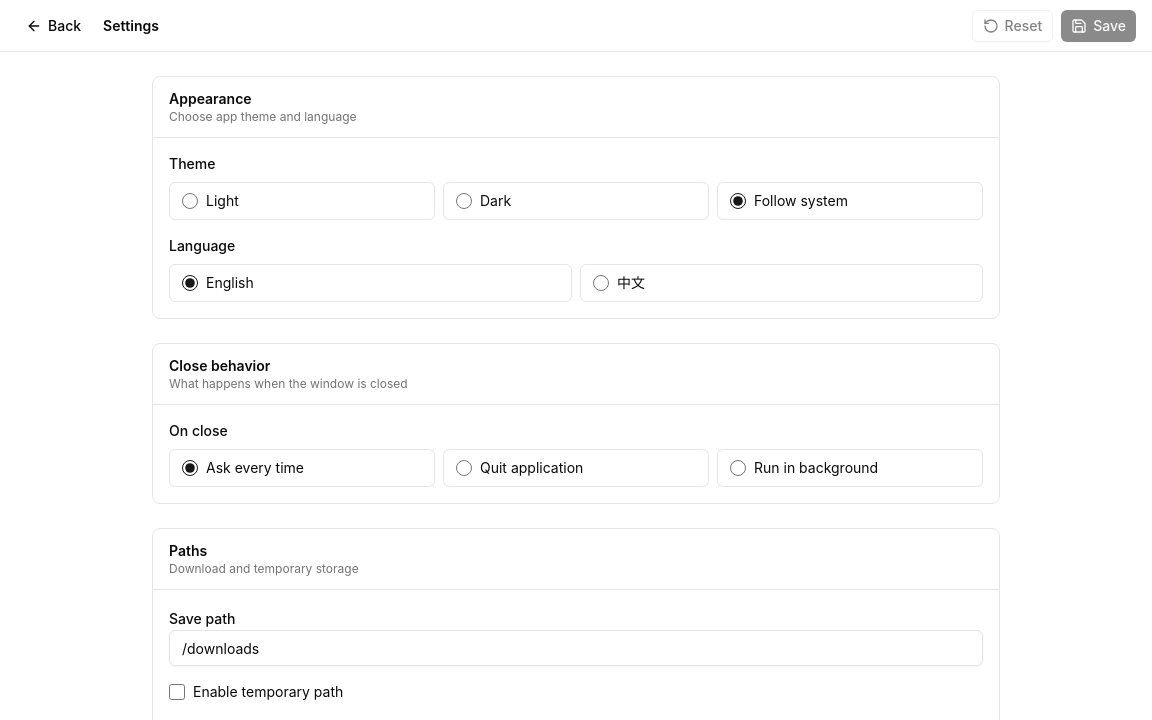
Scenario: Settings page › can reopen exit prompt after closing it
The image size is (1152, 720).
Expected: the field labelled "Save path" holds "/downloads", [169,630,983,666]
Click the radio button labelled "Dark".
click(464, 201)  # box [456,193,472,209]
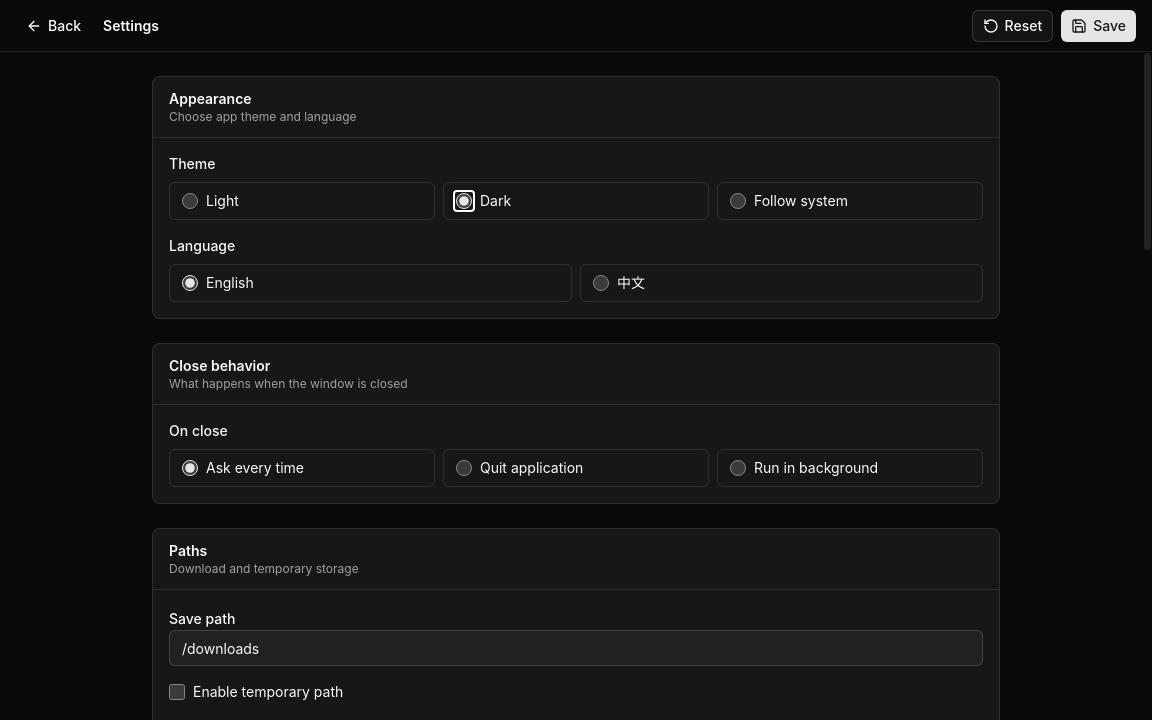
Click the button "Back".
click(54, 26)  # box [16,10,91,42]
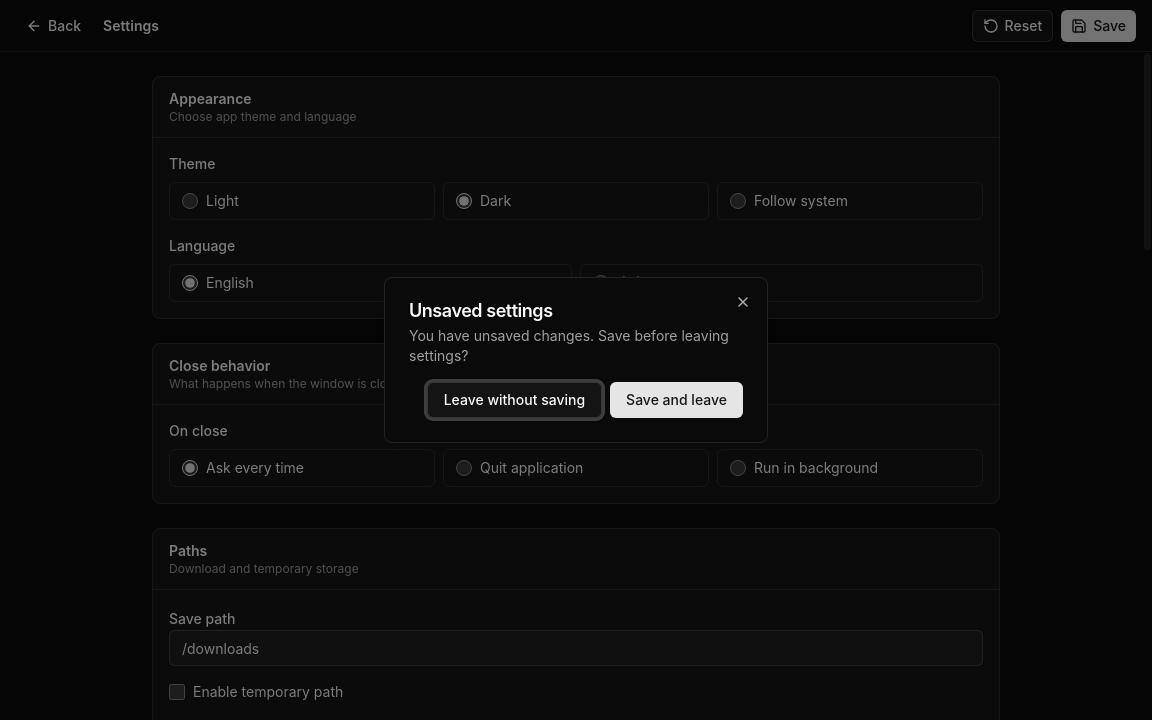
Expected: the heading "Unsaved settings" is shown, [409,300,553,321]
Click the button named "Close".
click(743, 302)  # box [735,294,751,310]
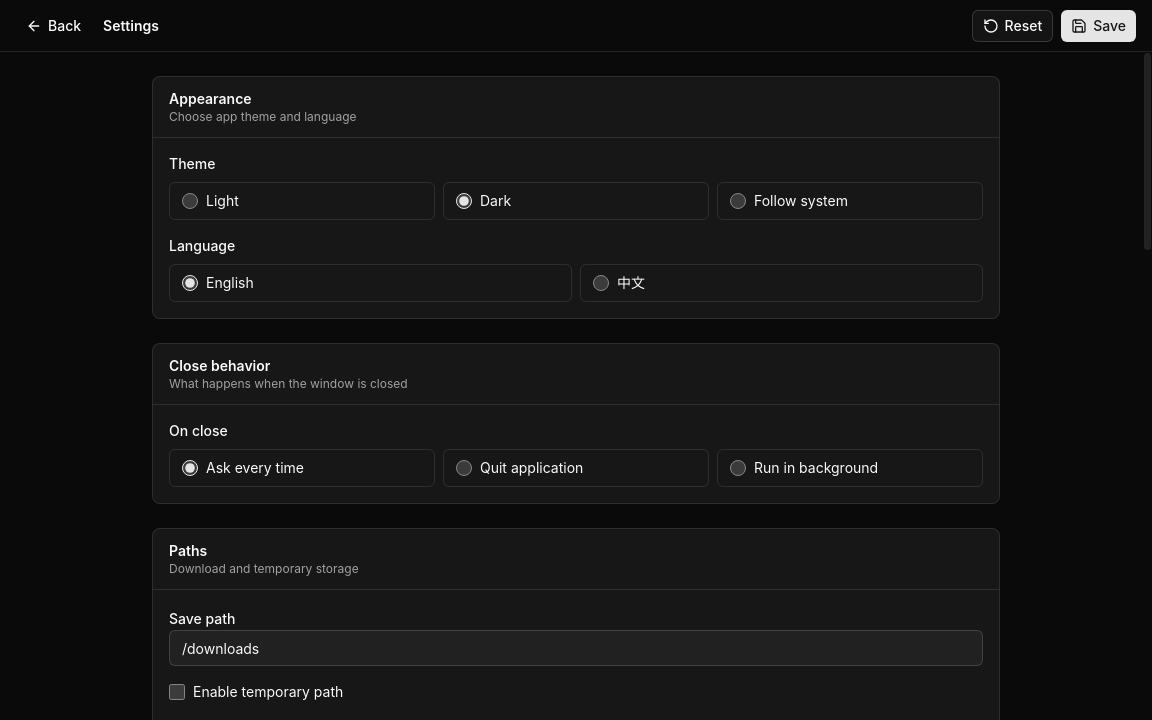
Expected: the heading "Unsaved settings" is gone
Click the button "Back".
click(54, 26)  # box [16,10,91,42]
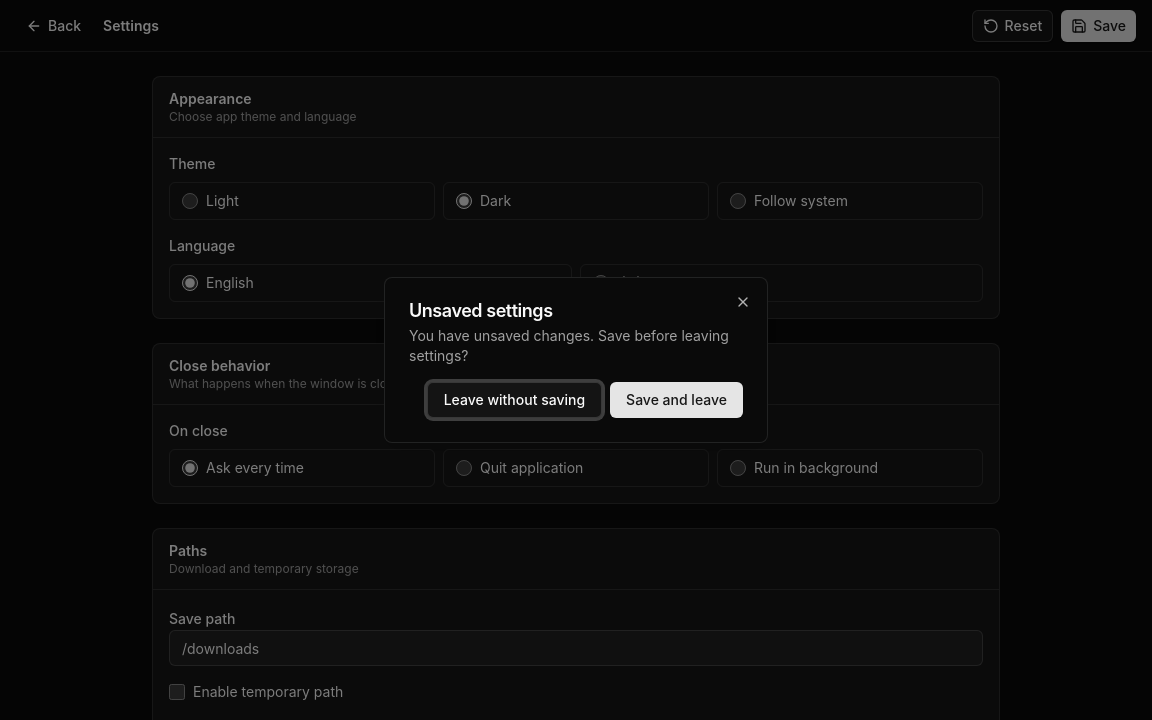
Expected: the heading "Unsaved settings" is shown, [409,300,553,321]
